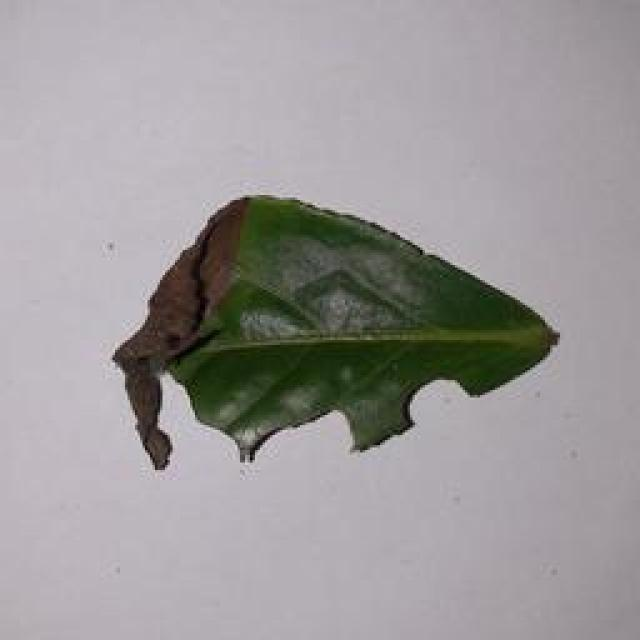Brown Blight: (117, 187, 543, 508)
